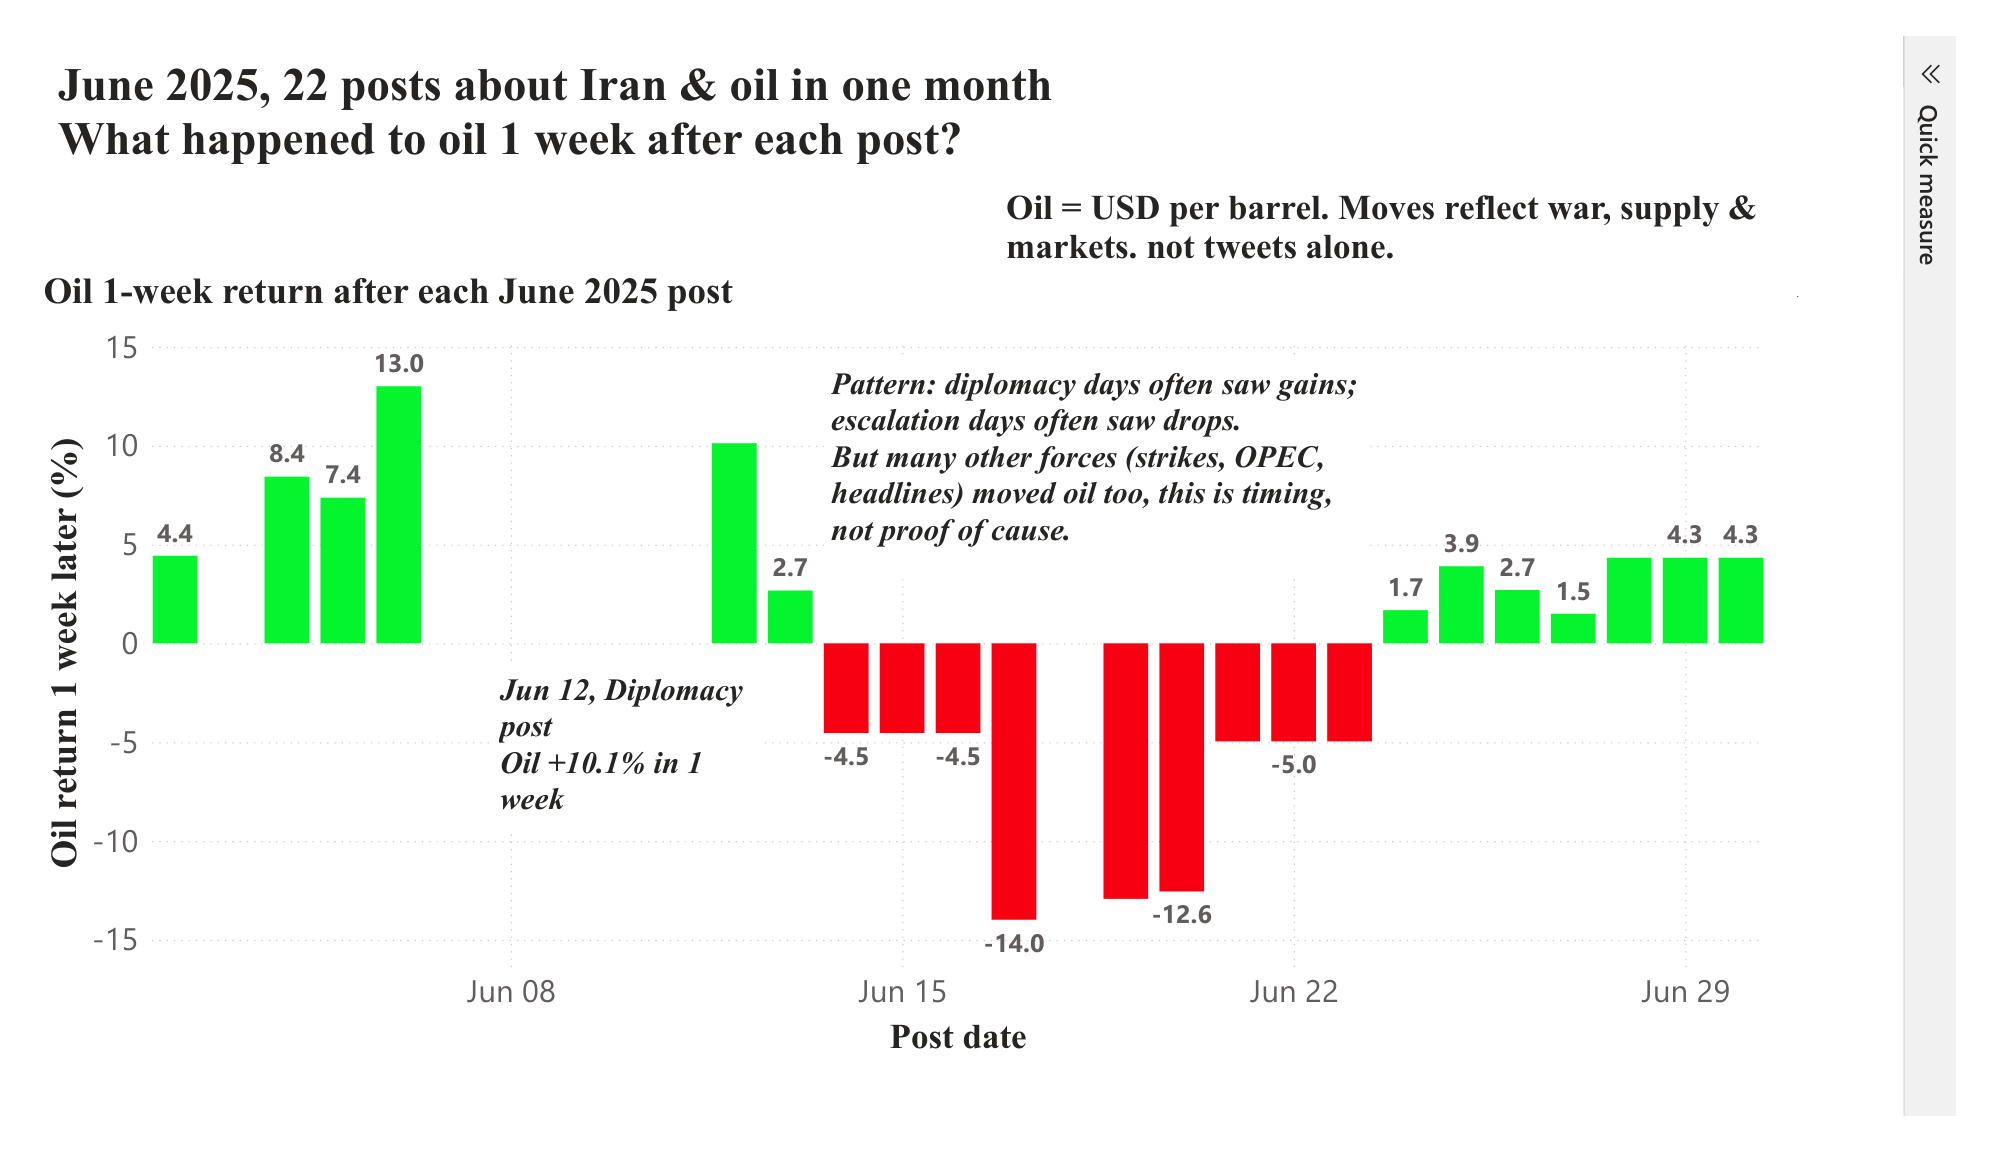

Layout of this report page (visuals, bound fields, positions):
{"tool":"powerbi","page":{"name":"OIL - June Timeline","canvas":[1280,720],"ordinal":6},"visuals":[{"type":"textbox","box":[10,0,917.1,92.9],"z":0},{"type":"textbox","box":[660,88.6,610,122.9],"z":1},{"type":"clusteredColumnChart","title":"\t Oil 1-week return after each June 2025 post","fields":{"Category":["Oil_Events.event_date"],"Y":["Avg(Oil_Events.return_1w_pct)"]},"box":[0,150,1207.1,542.9],"z":2},{"type":"textbox","box":[312.9,421.4,182.9,114.3],"z":3},{"type":"textbox","box":[540,211.4,374.3,148.6],"z":4}]}

Visuals, with their boxes on the page's 1280x720 design canvas (x1, y1, x2, y2). These are canvas units, not pixel positions in the 1992x1152 screenshot, which may show the page scaled, cropped or inside an application window:
textbox: 10,0,927,93
textbox: 660,89,1270,212
"	 Oil 1-week return after each June 2025 post" clusteredColumnChart: 0,150,1207,693
textbox: 313,421,496,536
textbox: 540,211,914,360
